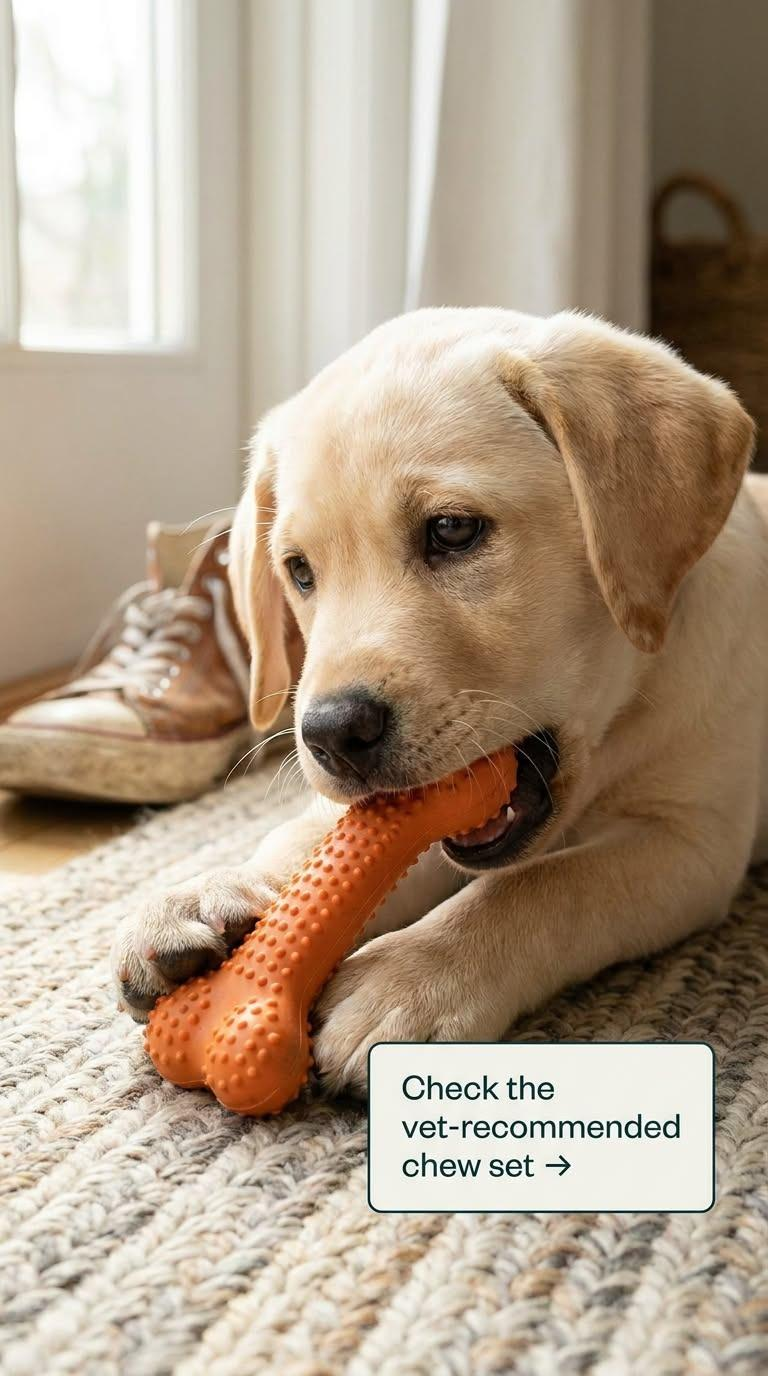puppy-dog: (108, 302, 768, 1096)
